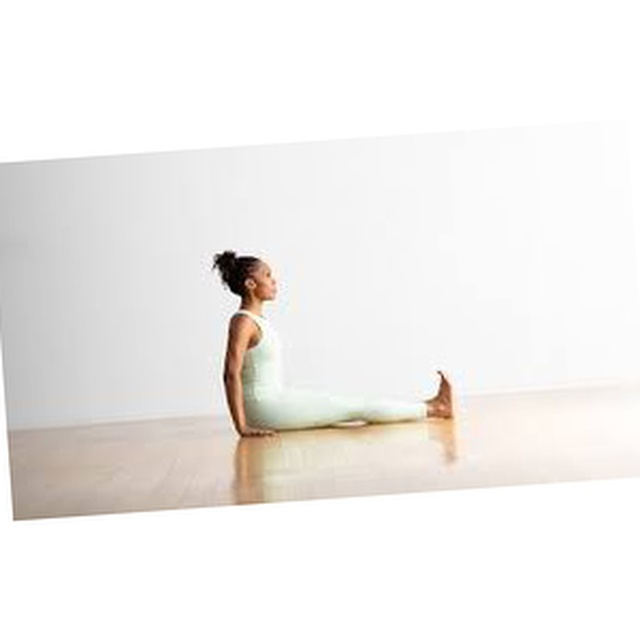Staff_Pose: (212, 250, 455, 438)
